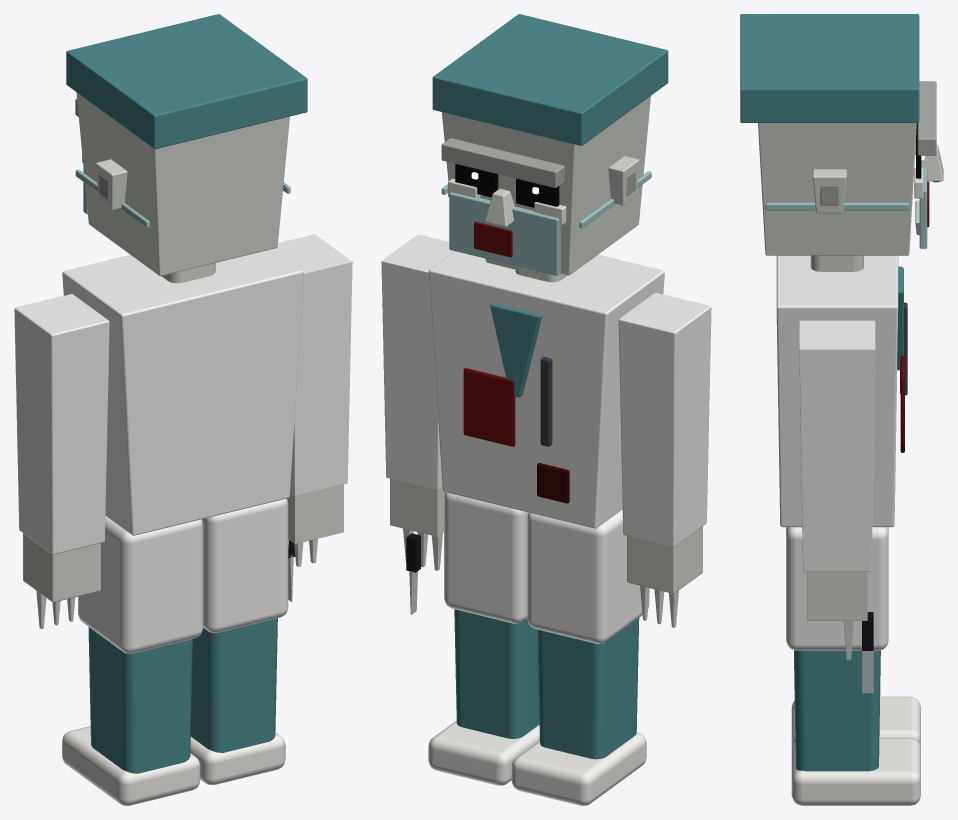
File: doctor_night.glb
The picture shows the model from 3 angles, left to right: view 1: azimuth 30°, elevation 25°; view 2: azimuth 150°, elevation 25°; view 3: azimuth 270°, elevation 25°; orthographic projection. The views are drawn at different scales.
Parts seen in each view (by area): view 1: Torso, Head, LegL, ArmL, LegR, ArmR; view 2: Torso, Head, LegL, ArmL, LegR, ArmR; view 3: Head, ArmR, LegR, Torso, LegL, NeckMesh.
Boxes of the visible parts, box(x1,y1,x2,y2) form: Torso: box(62, 249, 303, 535); Head: box(66, 14, 307, 276); LegL: box(62, 516, 203, 805); ArmL: box(14, 294, 109, 628); LegR: box(190, 498, 288, 785); ArmR: box(274, 234, 352, 601); Torso: box(428, 251, 664, 528); Head: box(432, 14, 668, 275); LegL: box(511, 509, 649, 805); ArmL: box(618, 292, 711, 627); LegR: box(428, 492, 539, 785); ArmR: box(381, 234, 454, 614); Head: box(740, 14, 943, 255); ArmR: box(799, 320, 875, 693); LegR: box(786, 527, 920, 805); Torso: box(776, 255, 907, 527); LegL: box(791, 696, 920, 748); NeckMesh: box(810, 255, 863, 271).
Bounding box in the file's own units: 0.9199 × 2.08 × 0.5343.
